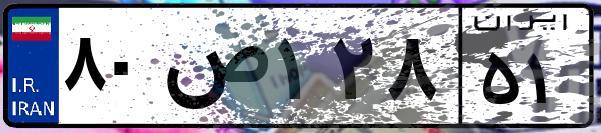0: (110, 28, 158, 98)
1: (270, 28, 330, 110), (525, 38, 570, 115)
2: (330, 28, 385, 110)
5: (475, 38, 525, 113)
8: (385, 28, 445, 110), (57, 26, 110, 100)
ص: (158, 20, 270, 120)
